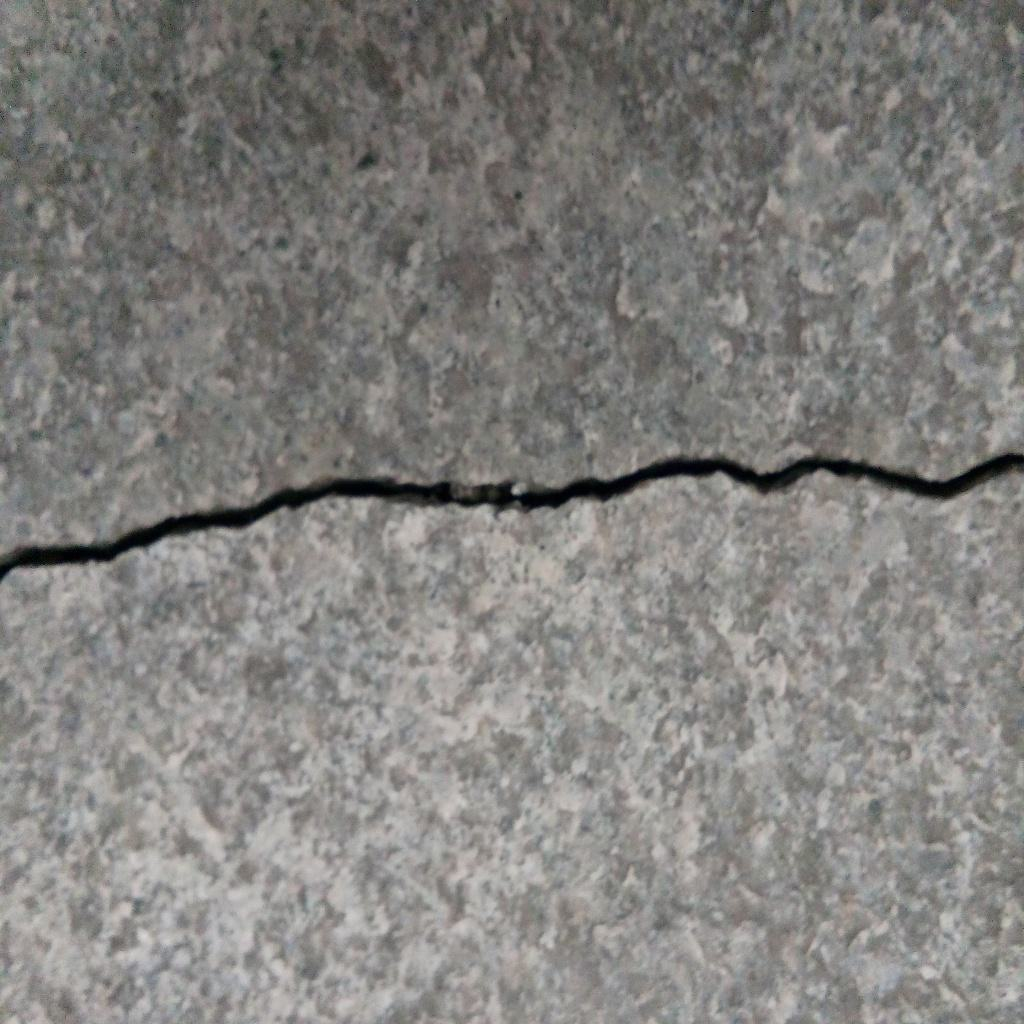Crack: (1, 449, 1024, 585)
